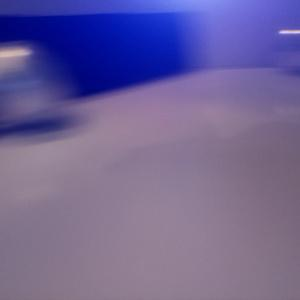alive_ball: (1, 42, 59, 130), (271, 28, 300, 72)
